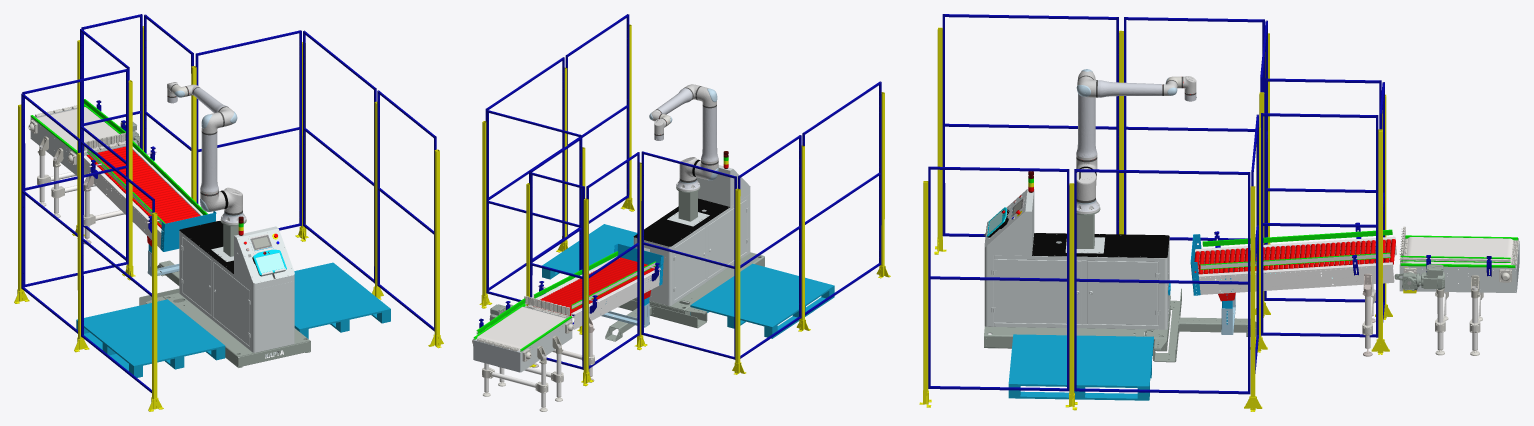
The model's file is 21-base-esteira-reta-viradora-gradil.glb.
The picture shows the model from 3 angles, left to right: view 1: azimuth 30°, elevation 25°; view 2: azimuth 150°, elevation 25°; view 3: azimuth 270°, elevation 25°; orthographic projection. The views are drawn at different scales.
Visible parts, largest first — view 1: world; view 2: world; view 3: world.
Part boxes in pixels (bbox=[...]): world: bbox=[14, 14, 443, 411]; world: bbox=[472, 14, 890, 411]; world: bbox=[919, 14, 1519, 411].
Bounding box in the file's own units: 3329 × 2349 × 5108.
